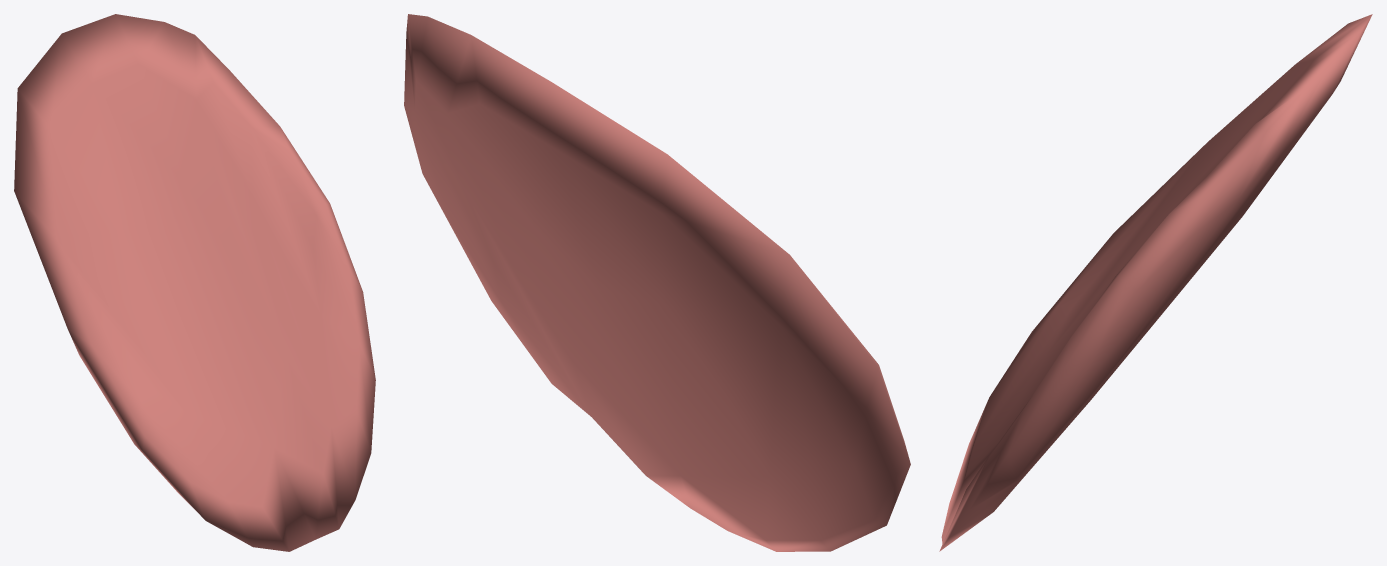
3 renders of one model, left to right at view 1: azimuth 30°, elevation 25°; view 2: azimuth 150°, elevation 25°; view 3: azimuth 270°, elevation 25°, orthographic. The views are drawn at different scales.
Visible parts, largest first — view 1: ZA_981433c2973de485; view 2: ZA_981433c2973de485; view 3: ZA_981433c2973de485.
Part boxes in pixels (x1=…): ZA_981433c2973de485: x1=14, y1=14, x2=375, y2=551; ZA_981433c2973de485: x1=404, y1=14, x2=910, y2=551; ZA_981433c2973de485: x1=939, y1=14, x2=1372, y2=551.
Size of the model in its own units: 0.0036 by 0.00539 by 0.00419.
